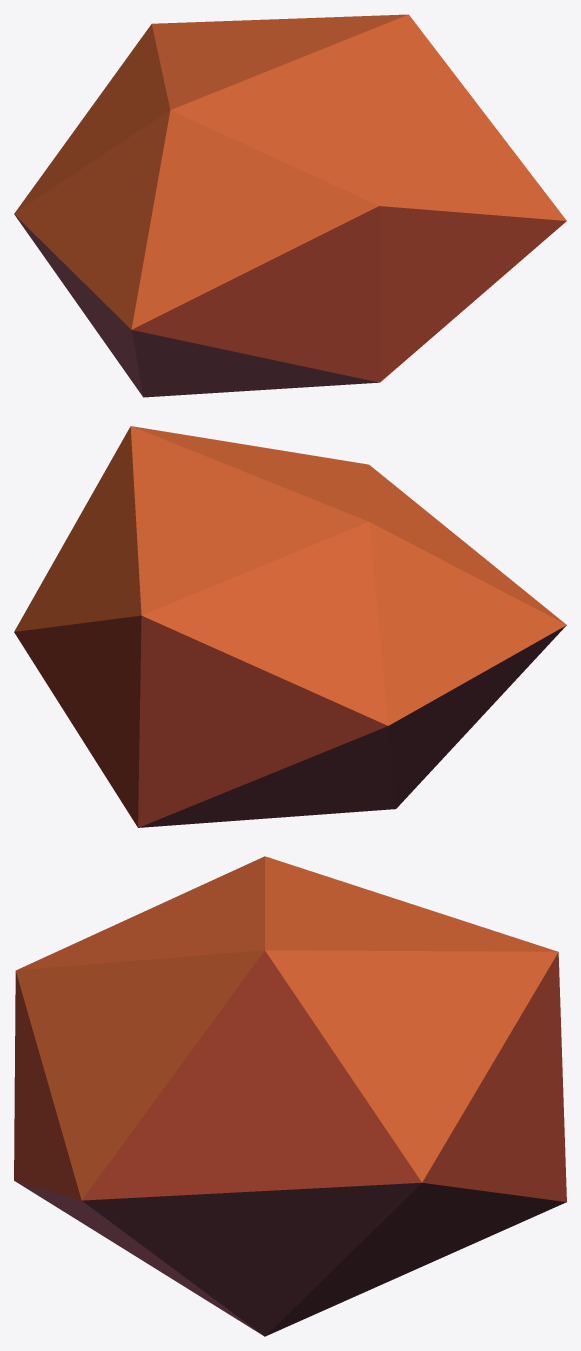
File: Rock_Scatter_D.fbx
3 views of the same model, one above another, from view 1: azimuth 30°, elevation 25°; view 2: azimuth 150°, elevation 25°; view 3: azimuth 270°, elevation 25° (orthographic). The views are drawn at different scales.
Visible parts, largest first — view 1: Rock_Scatter_D; view 2: Rock_Scatter_D; view 3: Rock_Scatter_D.
Part boxes in pixels (<box>): Rock_Scatter_D: <box>14,14,566,397</box>; Rock_Scatter_D: <box>14,426,566,827</box>; Rock_Scatter_D: <box>14,856,566,1336</box>.
Size of the model in its own units: 0.5947 by 0.4128 by 0.545.
